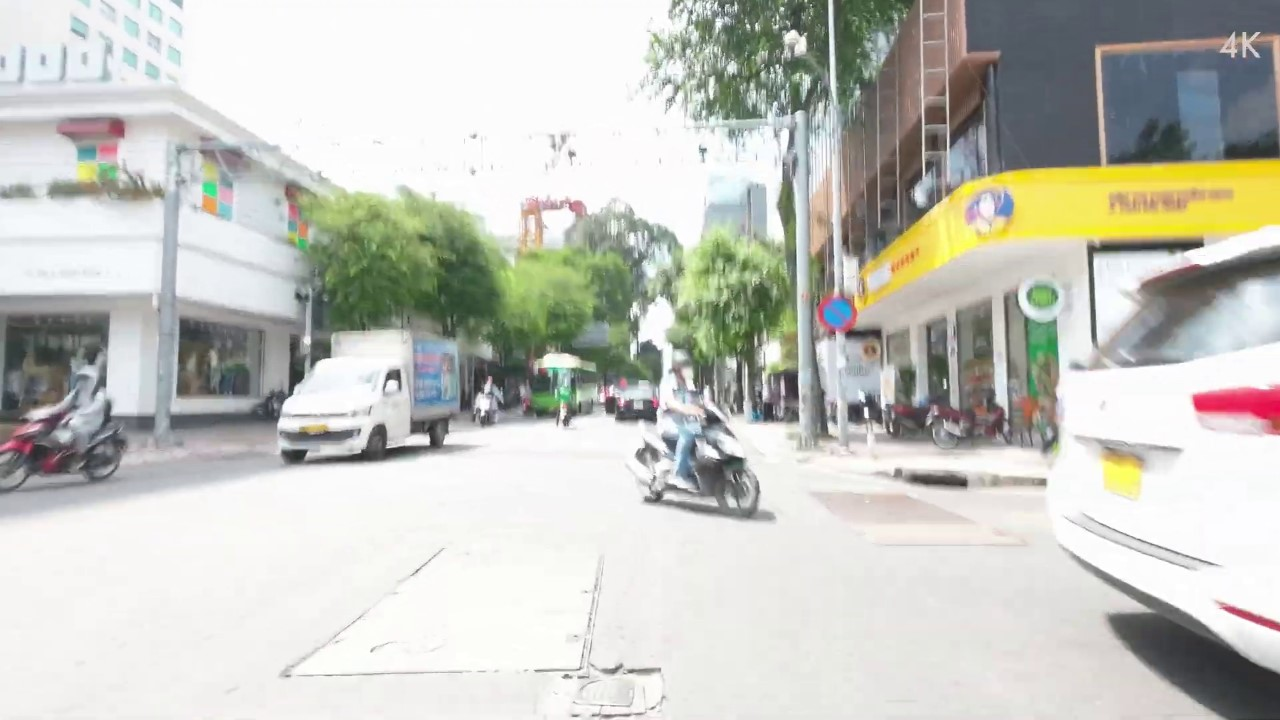cam_do_xe: (817, 296, 858, 332)
